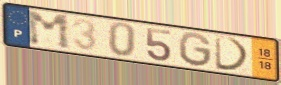0: (105, 21, 139, 59)
3: (71, 17, 99, 53)
5: (145, 26, 174, 62)
D: (213, 34, 252, 73)
G: (177, 31, 214, 69)
M: (24, 10, 73, 52)
